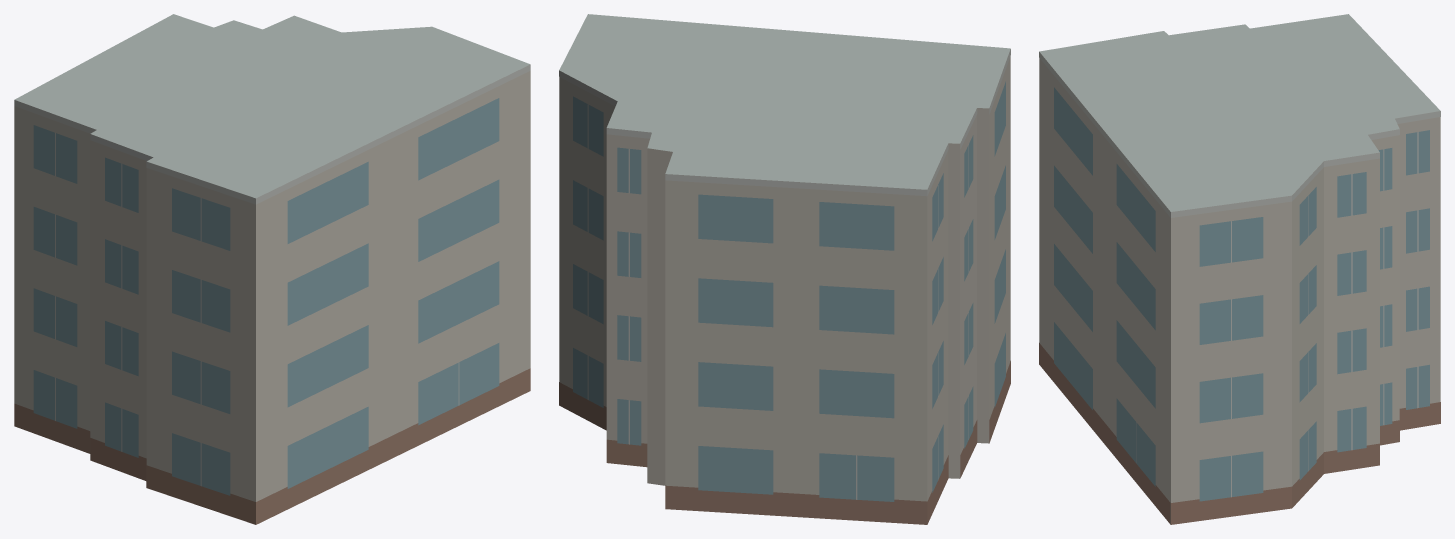
File: survey-upis-32619841.glb
The picture shows the model from 3 angles, left to right: view 1: azimuth 30°, elevation 25°; view 2: azimuth 150°, elevation 25°; view 3: azimuth 270°, elevation 25°; orthographic projection. The views are drawn at different scales.
Visible parts, largest first — view 1: survey-upis-32619841.tmp; view 2: survey-upis-32619841.tmp; view 3: survey-upis-32619841.tmp.
Boxes of the visible parts, bbox=[...] form: survey-upis-32619841.tmp: bbox=[14, 14, 530, 524]; survey-upis-32619841.tmp: bbox=[559, 14, 1010, 524]; survey-upis-32619841.tmp: bbox=[1039, 14, 1440, 524].
Bounding box in the file's own units: 17.32 × 12.75 × 14.84.
